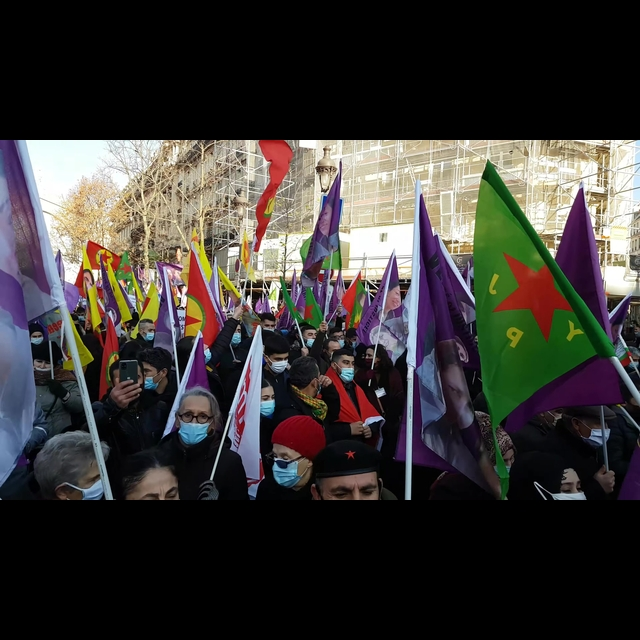YPJ: (481, 239, 585, 356)
